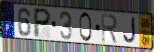0: (78, 11, 93, 43)
3: (59, 10, 73, 41)
6: (17, 6, 32, 38)
J: (122, 16, 136, 45)
P: (33, 7, 53, 39)
R: (100, 13, 119, 45)
